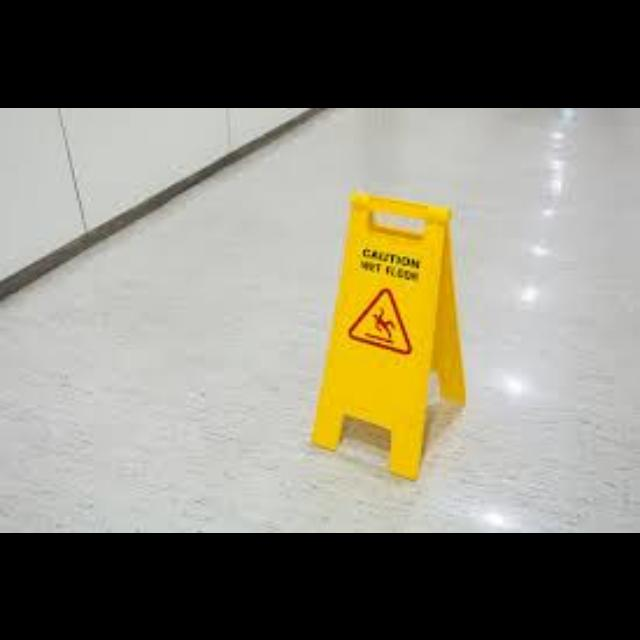slippery_floor: (312, 191, 463, 477)
